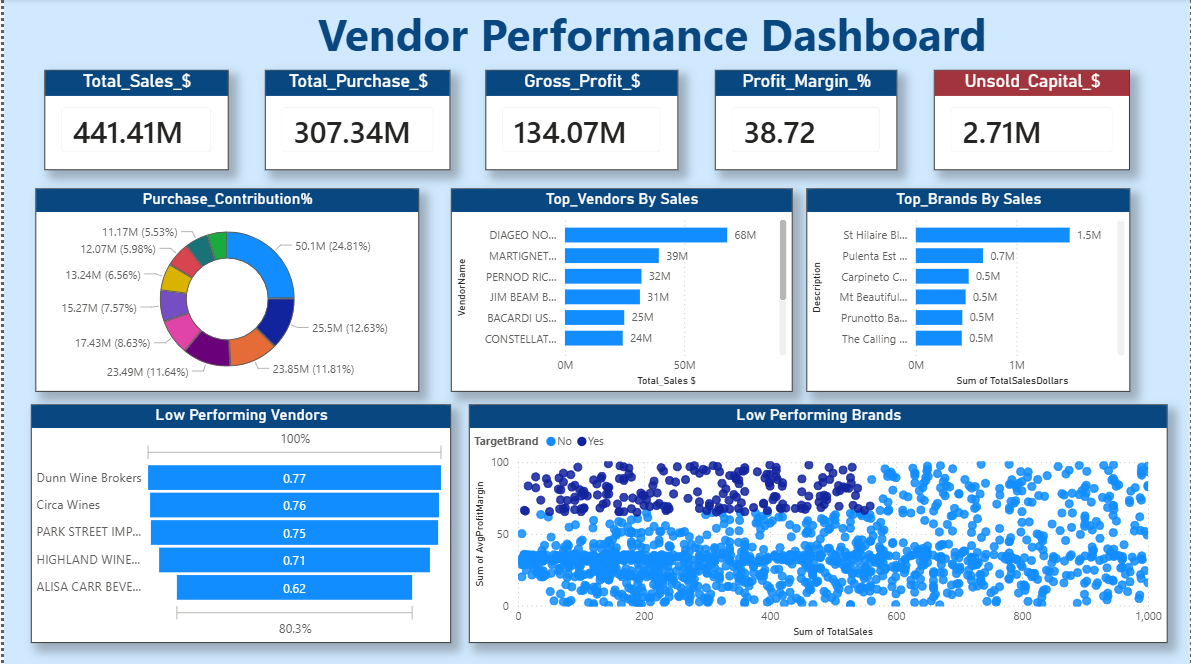

The dashboard page shown, as its layout file describes it:
{"tool":"powerbi","page":{"name":"Vendor_Performance_Dashboard","canvas":[1280,720],"ordinal":0},"visuals":[{"type":"cardVisual","title":"Total_Sales_$","fields":{"Data":["Sum(BrandPerformance.TotalSales)"]},"box":[43.5,77.5,198.4,107.7],"z":0},{"type":"cardVisual","title":"Total_Purchase_$","fields":{"Data":["Sum(PurchaseContribution.TotalPurchaseDollars)"]},"box":[281.6,77.5,200.3,107.7],"z":1000},{"type":"cardVisual","title":"Gross_Profit_$","fields":{"Data":["Sum(Vendor_Sales_Summary.GrossProfit)"]},"box":[519.7,77.5,207.9,107.7],"z":2000},{"type":"cardVisual","title":"Profit_Margin_%","fields":{"Data":["Avg(Vendor_Sales_Summary.ProfitMargin)"]},"box":[767.2,77.5,196.5,107.7],"z":3000},{"type":"cardVisual","title":"Unsold_Capital_$","fields":{"Data":["Sum(Vendor_Sales_Summary.UnsoldInventoryValue)"]},"box":[1003.5,77.5,211.7,107.7],"z":4000},{"type":"donutChart","title":"Purchase_Contribution%","fields":{"Category":["PurchaseContribution.VendorName"],"Y":["Sum(PurchaseContribution.TotalPurchaseDollars)"]},"box":[34,206,413.9,219.2],"z":5000},{"type":"funnel","title":"Low Performing Vendors","fields":{"Category":["LowTurnoverVendor.VendorName"],"Y":["Sum(LowTurnoverVendor.AvgStockTurnOver)"]},"box":[28.3,438.4,453.5,257],"z":6000},{"type":"scatterChart","title":"Low Performing Brands","fields":{"Category":["BrandPerformance.Description"],"X":["Sum(BrandPerformance.TotalSales)"],"Y":["Sum(BrandPerformance.AvgProfitMargin)"],"Series":["BrandPerformance.TargetBrand"]},"box":[502.7,438.4,754,257],"z":7000},{"type":"barChart","title":"Top_Vendors By Sales","fields":{"Category":["PurchaseContribution.VendorName"],"Y":["Vendor_Sales_Summary.Total_Sales $"]},"box":[481.9,206,368.5,219.2],"z":8000},{"type":"barChart","title":"Top_Brands By Sales","fields":{"Category":["BrandPerformance.Description"],"Y":["Sum(Vendor_Sales_Summary.TotalSalesDollars)"]},"box":[865.5,206,349.6,219.2],"z":9000},{"type":"textbox","box":[119.1,0,1160.3,77.5],"z":10000}]}

Visuals, with their boxes in screenshot pixels (x1, y1, x2, y2), scaled from the page's 1280x720 canvas onto the 1191x664 screenshot:
"Total_Sales_$" cardVisual: (x1=40, y1=71, x2=225, y2=171)
"Total_Purchase_$" cardVisual: (x1=262, y1=71, x2=448, y2=171)
"Gross_Profit_$" cardVisual: (x1=484, y1=71, x2=677, y2=171)
"Profit_Margin_%" cardVisual: (x1=714, y1=71, x2=897, y2=171)
"Unsold_Capital_$" cardVisual: (x1=934, y1=71, x2=1131, y2=171)
"Purchase_Contribution%" donutChart: (x1=32, y1=190, x2=417, y2=392)
"Low Performing Vendors" funnel: (x1=26, y1=404, x2=448, y2=641)
"Low Performing Brands" scatterChart: (x1=468, y1=404, x2=1169, y2=641)
"Top_Vendors By Sales" barChart: (x1=448, y1=190, x2=791, y2=392)
"Top_Brands By Sales" barChart: (x1=805, y1=190, x2=1131, y2=392)
textbox: (x1=111, y1=0, x2=1190, y2=71)
